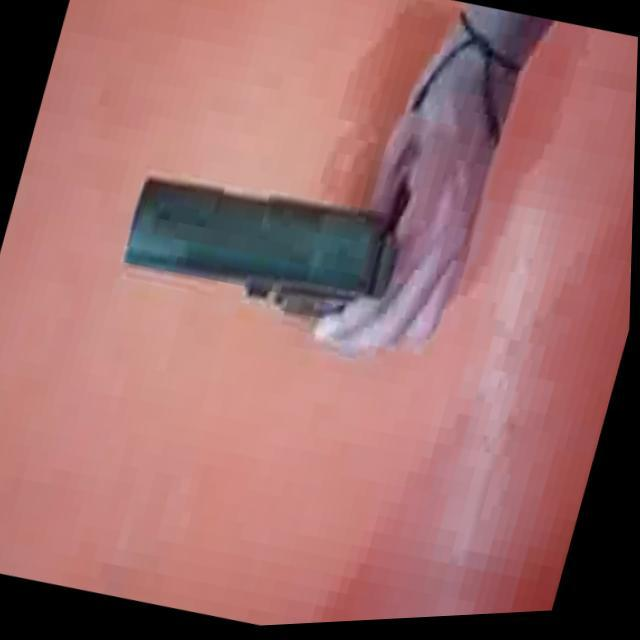weapon: (115, 155, 410, 347)
